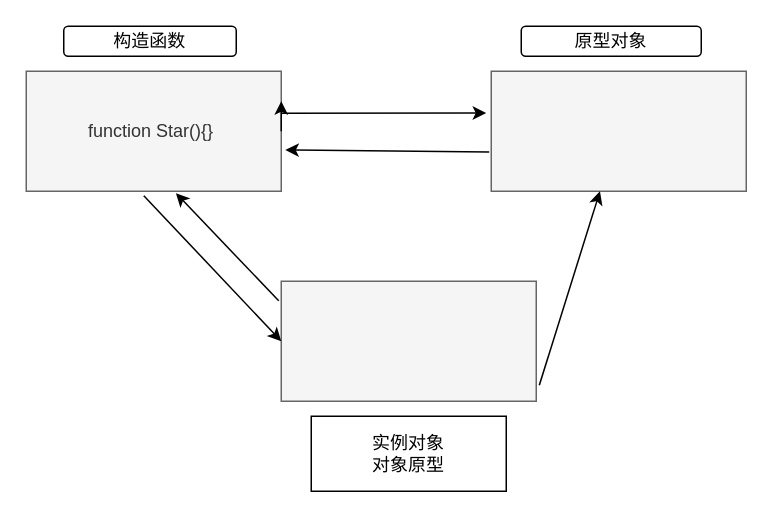
Some shapes in this 773 by 518 pixel diagram are drawn without their labels. Each missing label, with the box of its shape:
Jay.__proto__.constructor new Star() Jay.__proto__: (280, 280, 536, 401)
prototype prototype.constructor: (490, 70, 746, 191)
